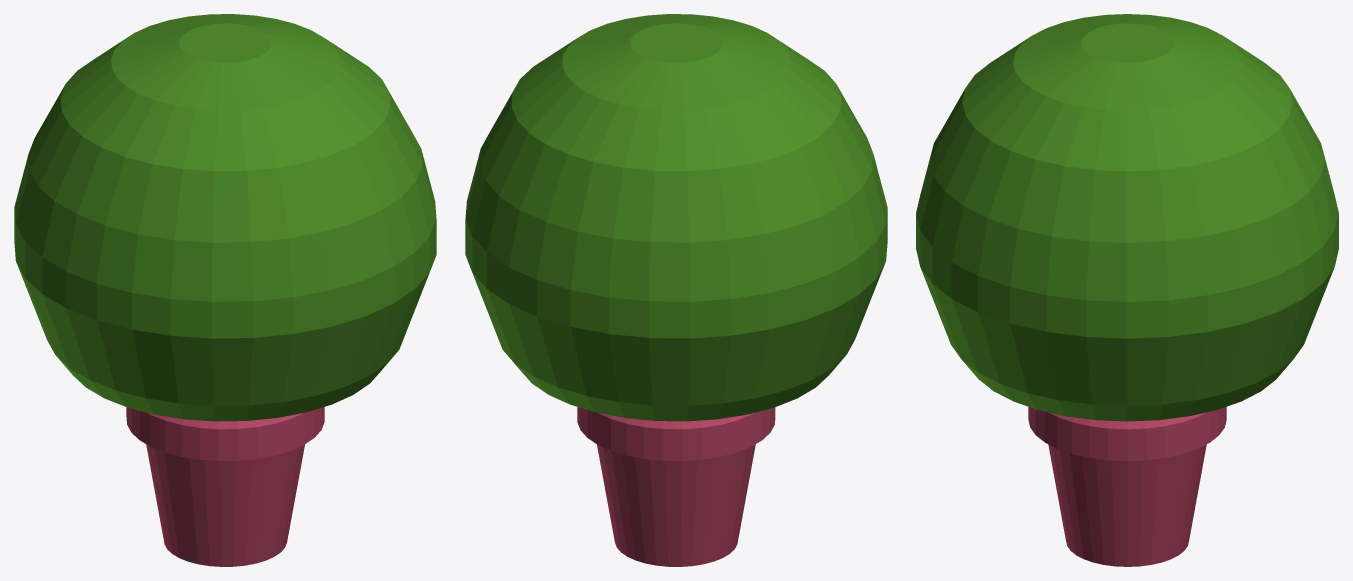
Rendered from tree_2.fbx.
3 renders of one model, left to right at view 1: azimuth 30°, elevation 25°; view 2: azimuth 150°, elevation 25°; view 3: azimuth 270°, elevation 25°, orthographic.
Parts seen in each view (by area): view 1: Цилиндр.004; view 2: Цилиндр.004; view 3: Цилиндр.004.
Part boxes in pixels (box(x1,y1,x2,y2)): Цилиндр.004: box(14, 14, 436, 566); Цилиндр.004: box(465, 14, 887, 566); Цилиндр.004: box(916, 14, 1338, 566).
Bounding box in the file's own units: 254 × 331 × 254.
